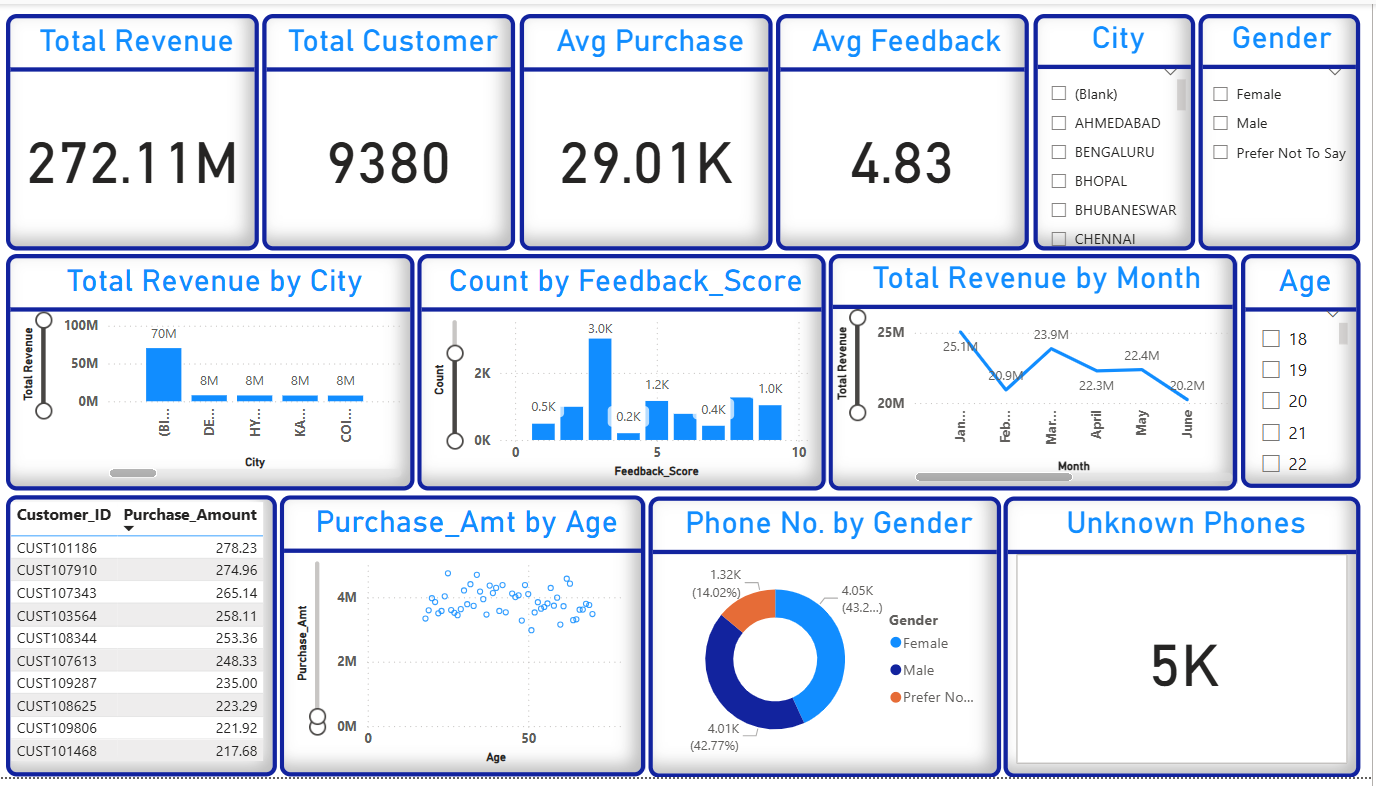

What the dashboard file says about the page in this screenshot:
{"tool":"powerbi","page":{"name":"Page 1","canvas":[1280,720],"ordinal":0},"visuals":[{"type":"card","title":"Total Revenue","fields":{"Values":["CustomerSales.Total Revenue"]},"box":[9.8,9.8,235,220.1],"z":0},{"type":"card","title":"Total Customer","fields":{"Values":["CustomerSales.Total Customers"]},"box":[248.2,9.8,235,220.1],"z":1000},{"type":"card","title":"Avg Feedback","fields":{"Values":["CustomerSales.Avg Feedback"]},"box":[725.1,9.8,235,220.1],"z":2000},{"type":"card","title":"Avg Purchase","fields":{"Values":["CustomerSales.Avg Purchase"]},"box":[486.7,9.8,235,220.1],"z":3000},{"type":"columnChart","fields":{"Category":["CustomerSales.City"],"Y":["CustomerSales.Total Revenue"]},"box":[9.8,233,380,220],"z":4000},{"type":"lineChart","fields":{"Category":["CustomerSales.Signup_Date.Variation.Date Hierarchy.Month","CustomerSales.Signup_Date.Variation.Date Hierarchy.Day"],"Y":["CustomerSales.Total Revenue"]},"box":[775,233,380,220],"z":5000},{"type":"lineStackedColumnComboChart","fields":{"Category":["CustomerSales.Feedback_Score"],"Y":["CountNonNull(CustomerSales.Feedback_Score)"]},"box":[392,233,380,220],"z":6000},{"type":"slicer","title":"City","fields":{"Values":["CustomerSales.City"]},"box":[965,9.8,150.4,220.1],"z":7000},{"type":"slicer","title":"Age","fields":{"Values":["CustomerSales.Age"]},"box":[1158,233,111.3,217.7],"z":8000},{"type":"slicer","title":"Gender","fields":{"Values":["CustomerSales.Gender"]},"box":[1118.9,9.8,150,220.1],"z":9000},{"type":"tableEx","fields":{"Values":["CustomerSales.Customer_ID","CustomerSales.Purchase_Amount"]},"box":[9.8,457,251.9,261.7],"z":10000},{"type":"scatterChart","fields":{"Y":["CustomerSales.Purchase_Amount"],"X":["CustomerSales.Age"]},"box":[264.1,457,339.9,261.7],"z":11000},{"type":"donutChart","fields":{"Category":["CustomerSales.Gender"],"Y":["CountNonNull(CustomerSales.Phone_Number)"]},"box":[606.5,458.6,327.7,261.7],"z":12000},{"type":"cardVisual","title":"Unknown Phones","fields":{"Data":["CustomerSales.Unknown Phones"]},"box":[937,458.6,332,261.7],"z":13000}]}

Visuals, with their boxes in screenshot pixels (x1, y1, x2, y2), scaled from the page's 1280x720 canvas onto the 1376x786 screenshot:
"Total Revenue" card: detection(11, 11, 263, 251)
"Total Customer" card: detection(267, 11, 519, 251)
"Avg Feedback" card: detection(779, 11, 1032, 251)
"Avg Purchase" card: detection(523, 11, 776, 251)
columnChart - CustomerSales.City x CustomerSales.Total Revenue: detection(11, 254, 419, 495)
lineChart - CustomerSales.Signup_Date.Variation.Date Hierarchy.Month x CustomerSales.Signup_Date.Variation.Date Hierarchy.Day: detection(833, 254, 1242, 495)
lineStackedColumnComboChart - CustomerSales.Feedback_Score x CountNonNull(CustomerSales.Feedback_Score): detection(421, 254, 830, 495)
"City" slicer: detection(1037, 11, 1199, 251)
"Age" slicer: detection(1245, 254, 1364, 492)
"Gender" slicer: detection(1203, 11, 1364, 251)
tableEx - CustomerSales.Customer_ID x CustomerSales.Purchase_Amount: detection(11, 499, 281, 785)
scatterChart - CustomerSales.Purchase_Amount x CustomerSales.Age: detection(284, 499, 649, 785)
donutChart - CustomerSales.Gender x CountNonNull(CustomerSales.Phone_Number): detection(652, 501, 1004, 785)
"Unknown Phones" cardVisual: detection(1007, 501, 1364, 785)
